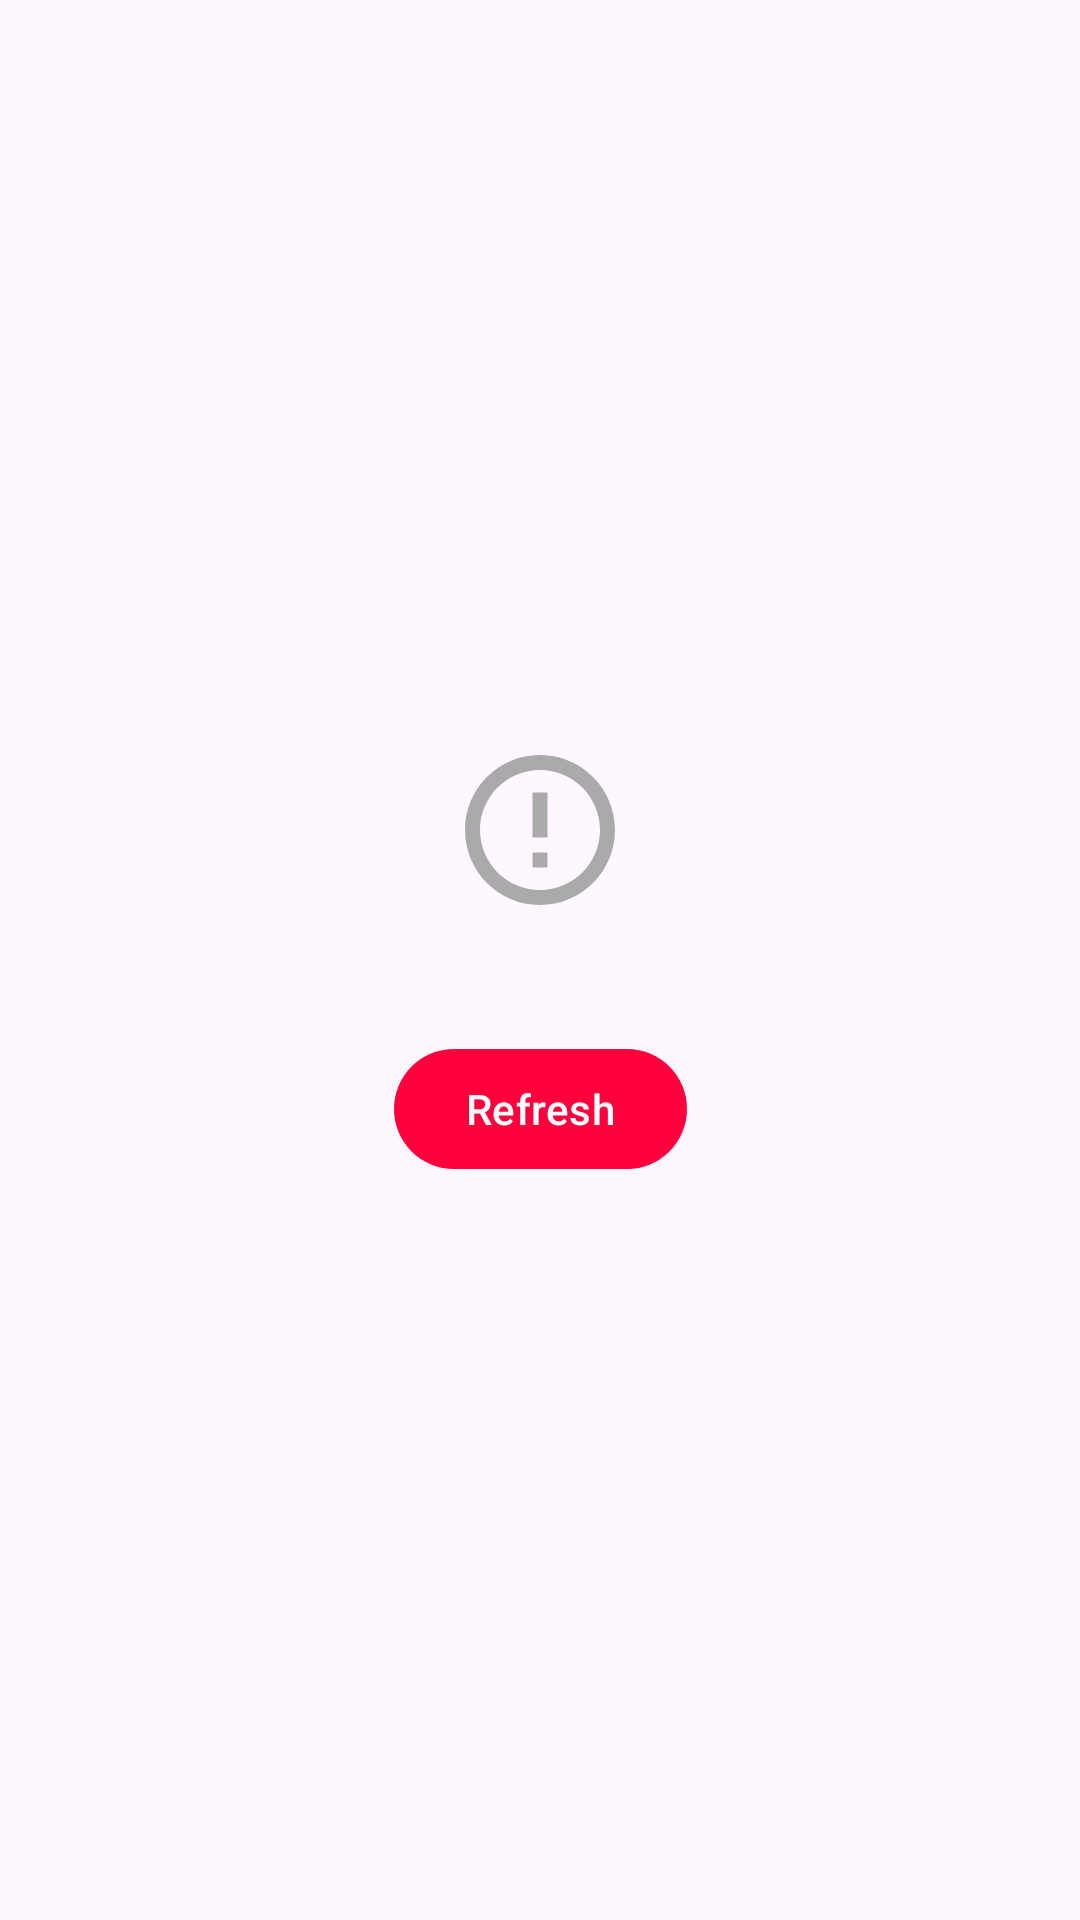

Screen size 1080x1920. Icon name, then its box in pixels as (x1, y1, x2, y2):
error: (465, 755, 615, 905)
